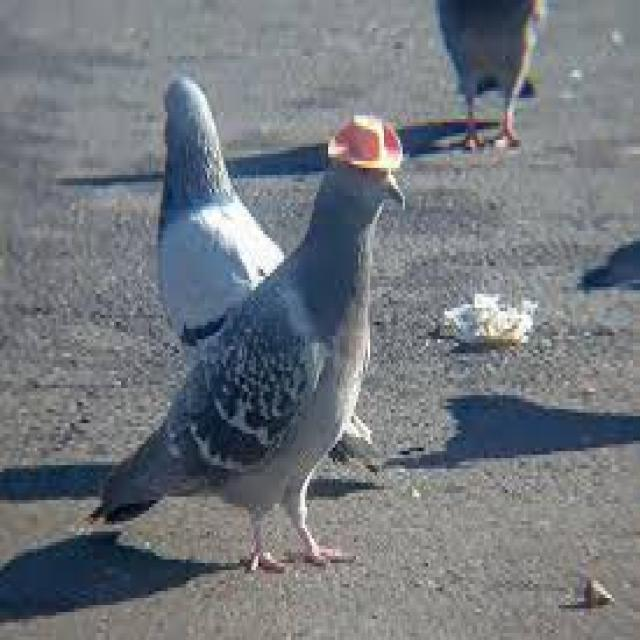Pigeon: (86, 114, 412, 580), (150, 65, 378, 480)
